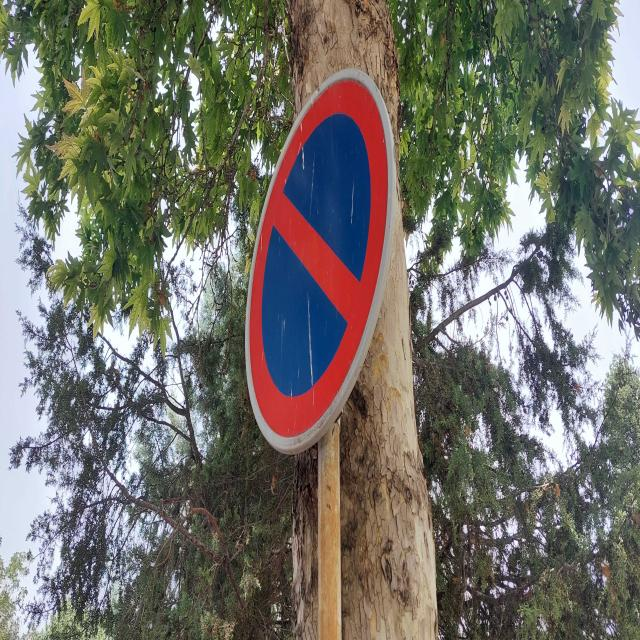forb_stopping: (244, 67, 397, 452)
